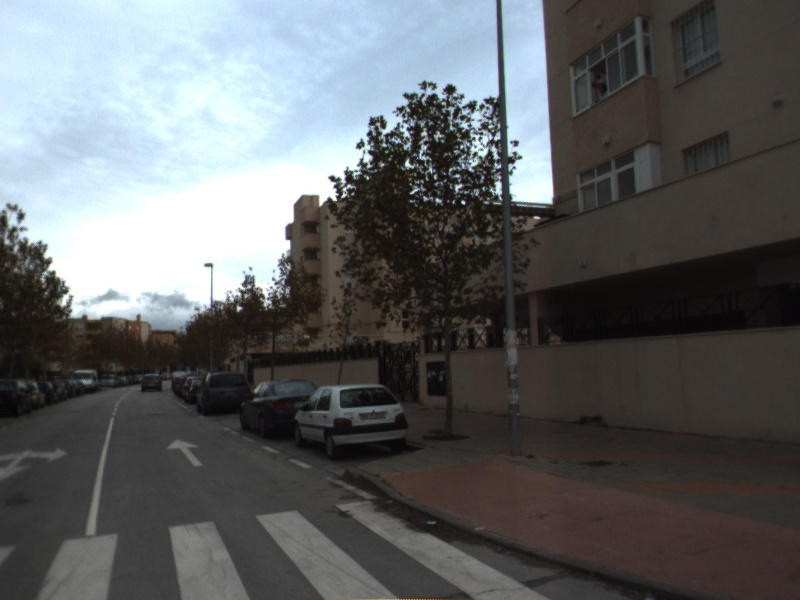STRAIGHT: (165, 437, 205, 468)
